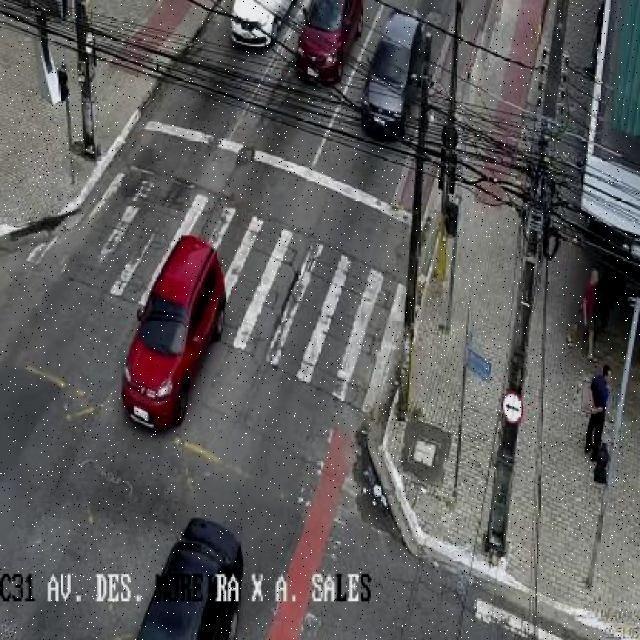Car: (116, 232, 228, 435), (136, 518, 247, 640), (357, 8, 429, 136), (294, 0, 366, 84), (227, 0, 297, 54)
